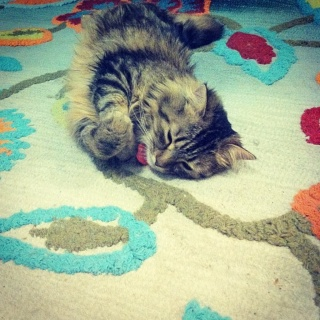Cat: (60, 0, 257, 181)
